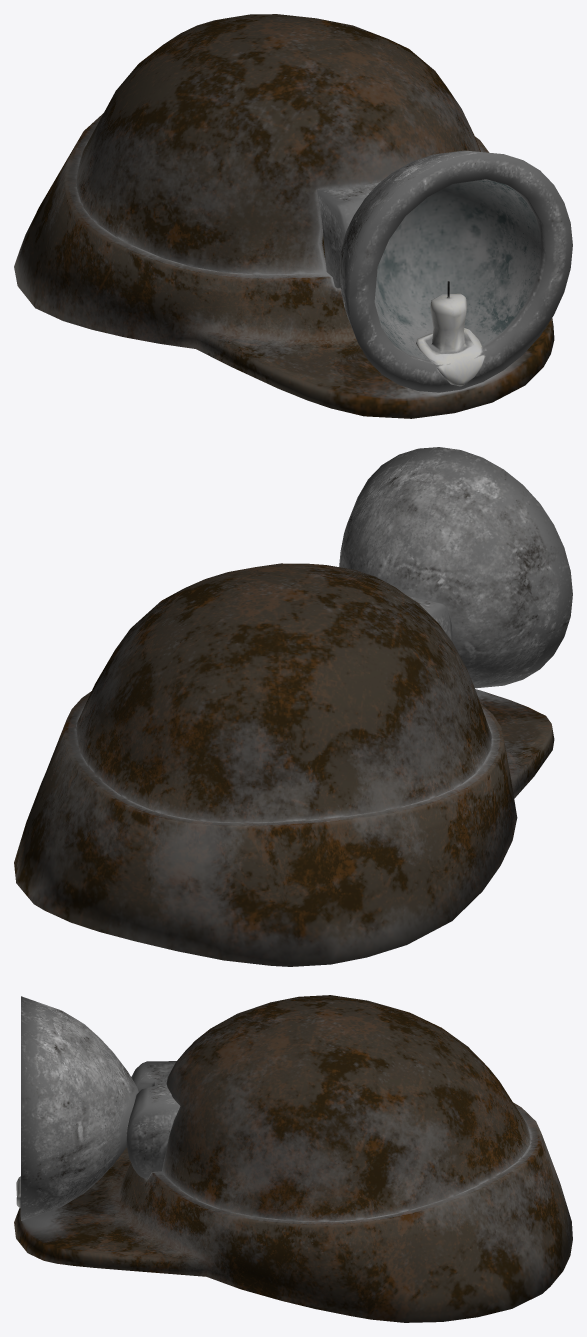
The model's file is MinerShat.fbx.
3 views of the same model, one above another, from view 1: azimuth 30°, elevation 25°; view 2: azimuth 150°, elevation 25°; view 3: azimuth 270°, elevation 25° (orthographic). The views are drawn at different scales.
Visible parts, largest first — view 1: Miner'shatL; view 2: Miner'shatL; view 3: Miner'shatL.
Boxes of the visible parts, x1,y1,x2,y2 form: Miner'shatL: (14,14,572,418); Miner'shatL: (14,447,572,966); Miner'shatL: (14,995,572,1322).
Bounding box in the file's own units: 29.66 × 18.15 × 39.12.
